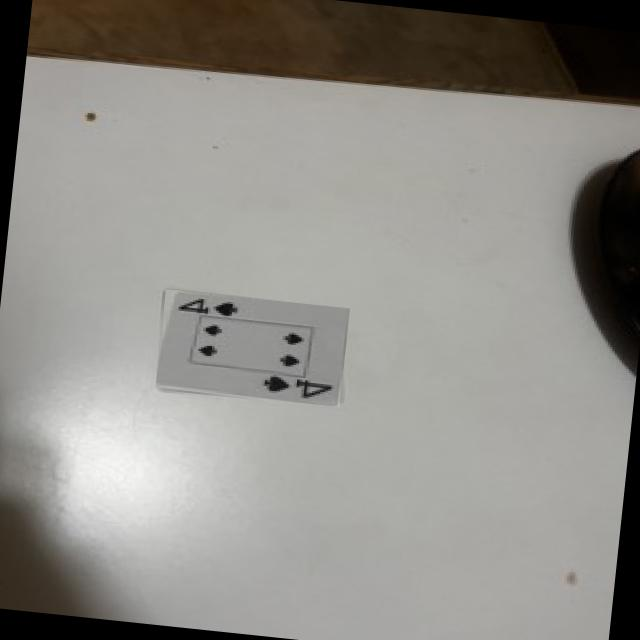4 of spades: (156, 294, 349, 406)
